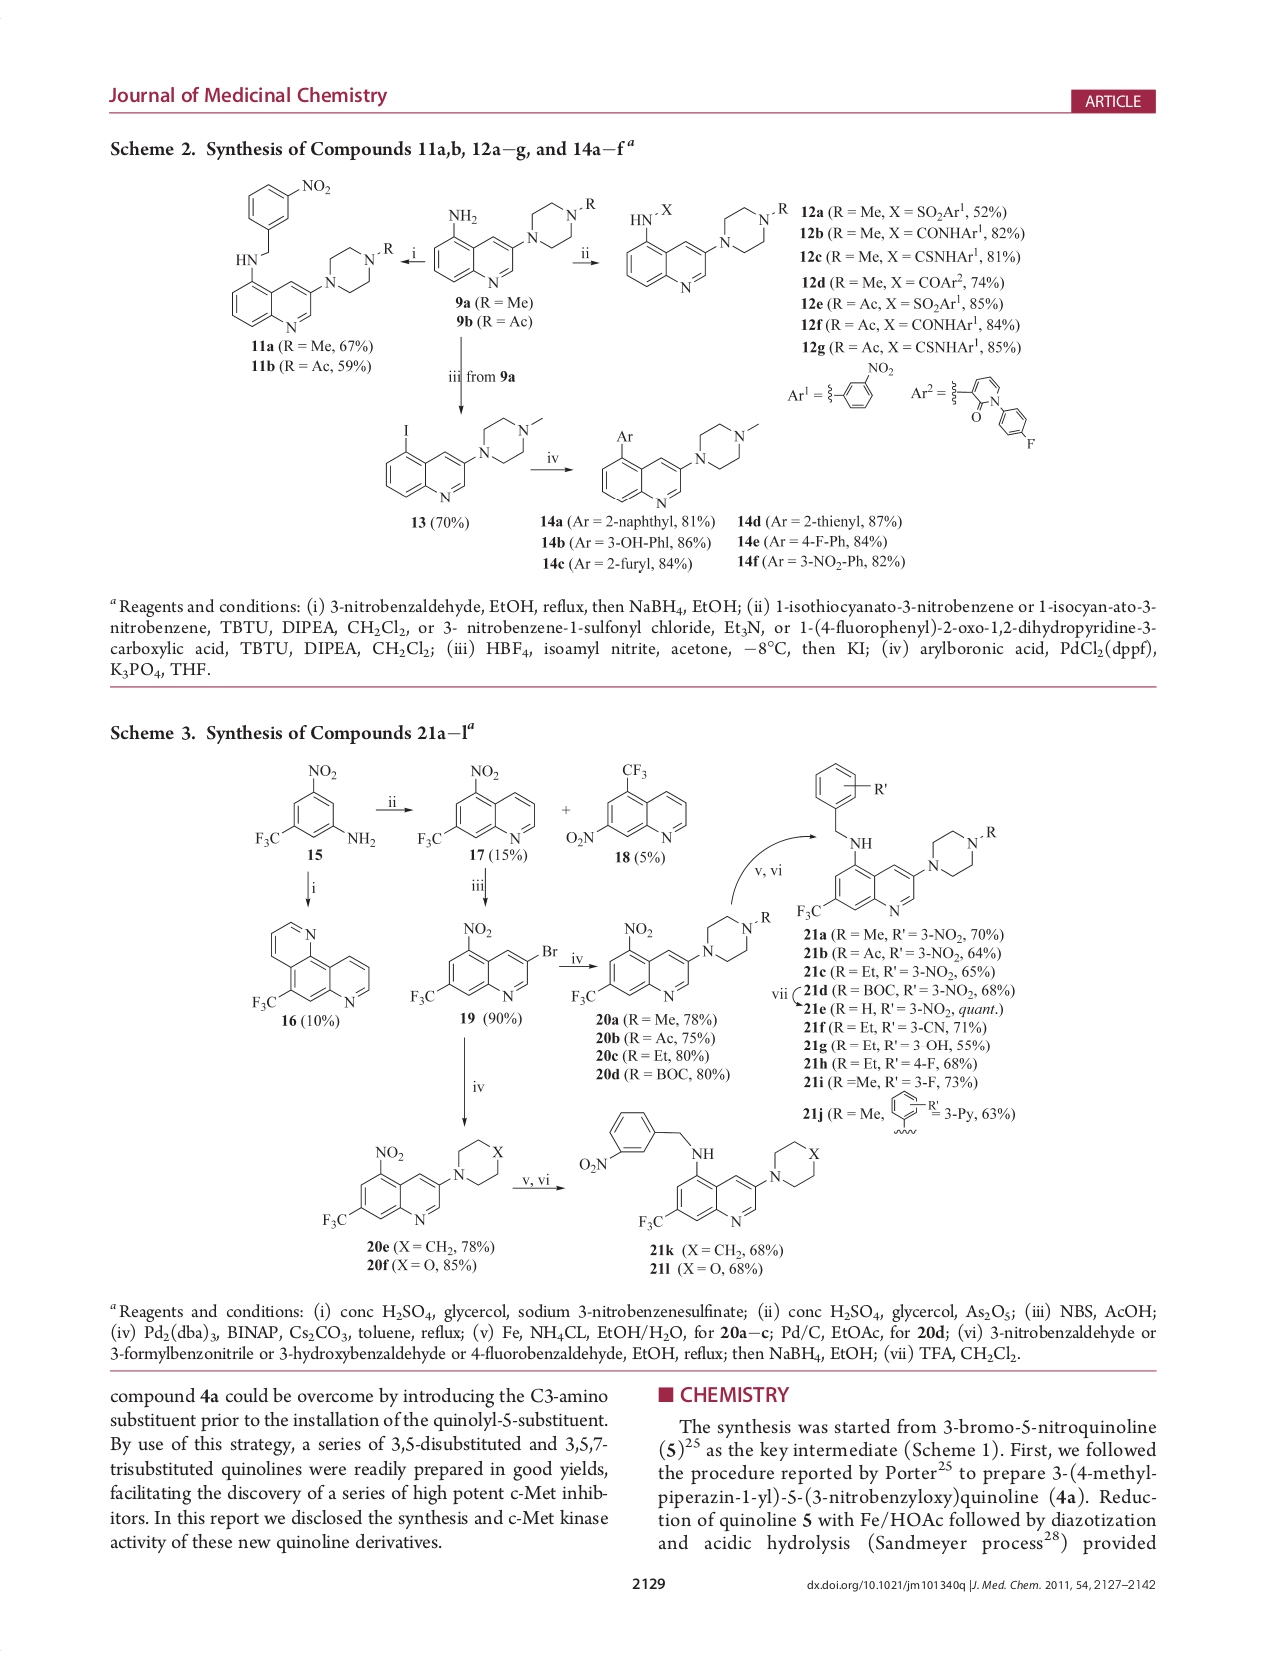exist_molecular: (793, 761, 1001, 923), (574, 1108, 821, 1230), (225, 176, 395, 335), (567, 907, 773, 1008), (316, 1134, 511, 1233), (430, 194, 598, 291), (621, 197, 789, 294), (597, 418, 763, 511), (382, 414, 545, 504), (407, 915, 560, 1011), (250, 914, 376, 1013), (253, 755, 380, 848), (411, 759, 544, 848), (565, 761, 692, 847), (947, 368, 1039, 448), (824, 358, 896, 411), (886, 1089, 939, 1138)
